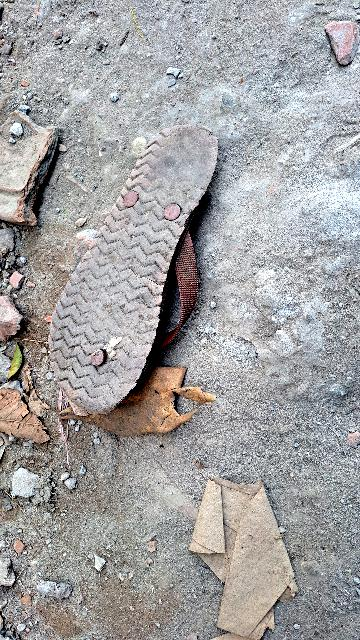sandal: (31, 95, 242, 434)
